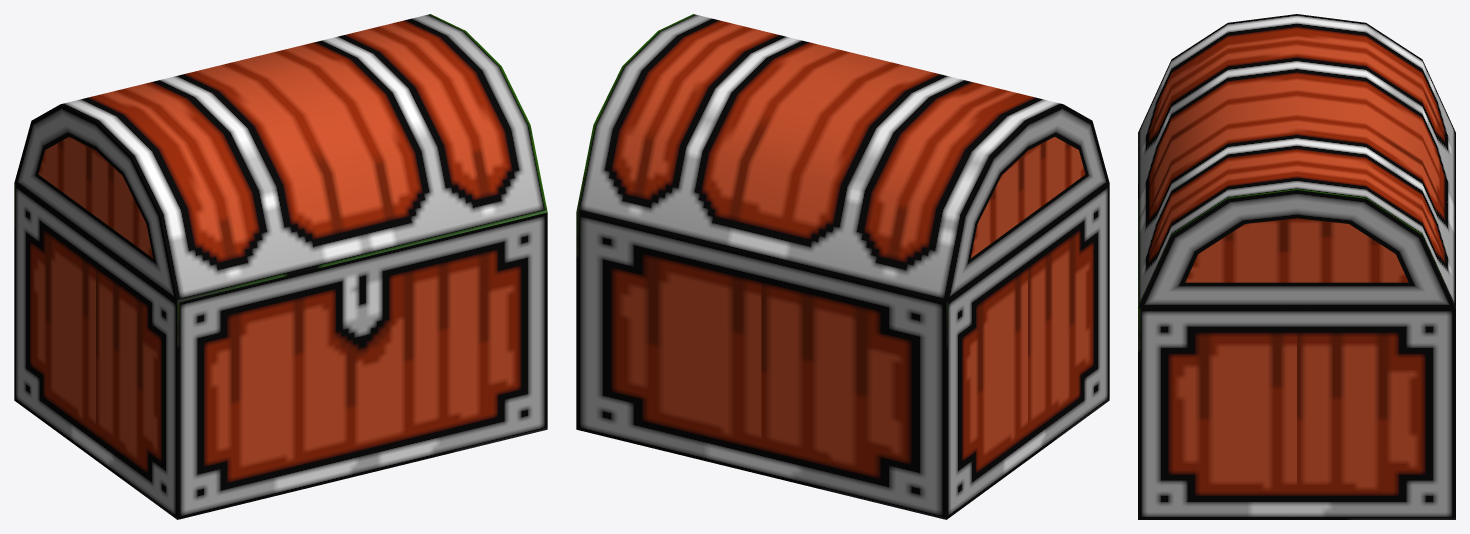
Rendered from deco_deco_chestBig_closed.FBX.
3 views of the same model, side by side, from view 1: azimuth 30°, elevation 25°; view 2: azimuth 150°, elevation 25°; view 3: azimuth 270°, elevation 25° (orthographic). The views are drawn at different scales.
Visible parts, largest first — view 1: deco_deco_chestBig_closed; view 2: deco_deco_chestBig_closed; view 3: deco_deco_chestBig_closed.
Boxes of the visible parts, box(x1,y1,x2,y2) form: deco_deco_chestBig_closed: box(14, 14, 547, 519); deco_deco_chestBig_closed: box(576, 14, 1109, 519); deco_deco_chestBig_closed: box(1138, 14, 1455, 519).
Bounding box in the file's own units: 2.02 × 1.76 × 1.54.
1 material, 1 textured.
